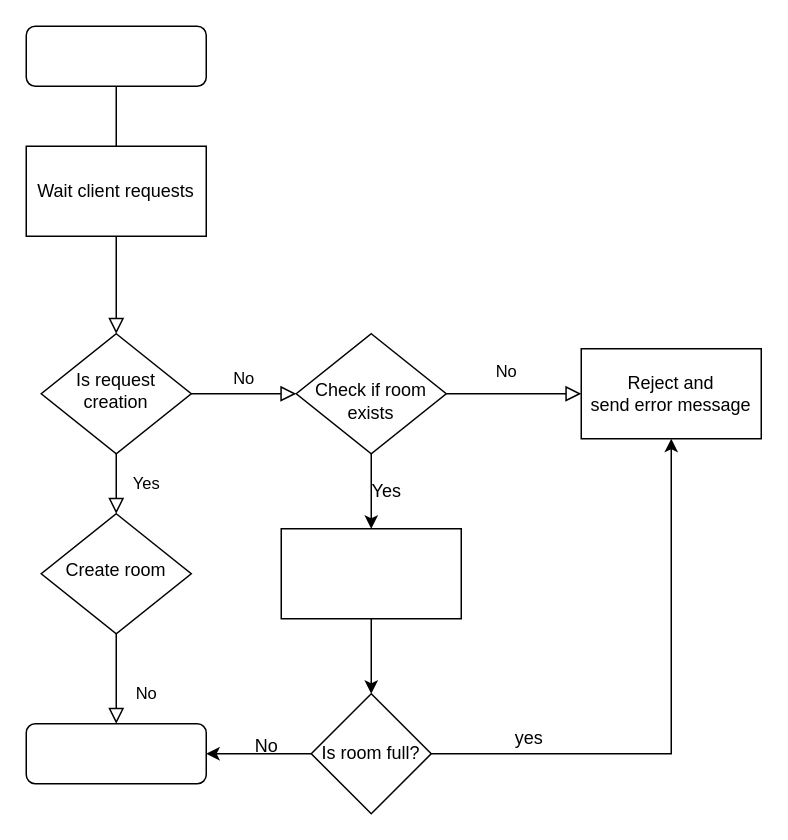
This 788x840 diagram has some shape labels left out. The centre of each missing label's shape, as x and y in pixels:
"Combine creator and participant into same room" goes at (x=370, y=573).
"Server Start" goes at (x=115, y=55).
"Spawn tokio tasks" goes at (x=115, y=753).
